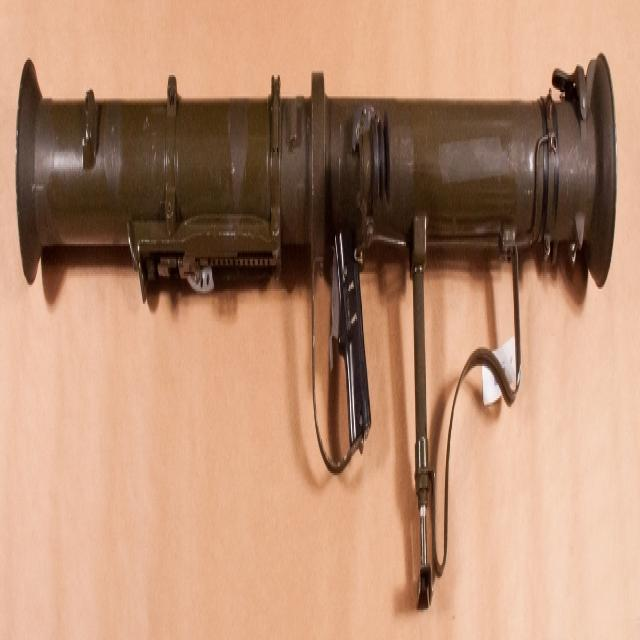bazooka: (11, 37, 620, 610)
